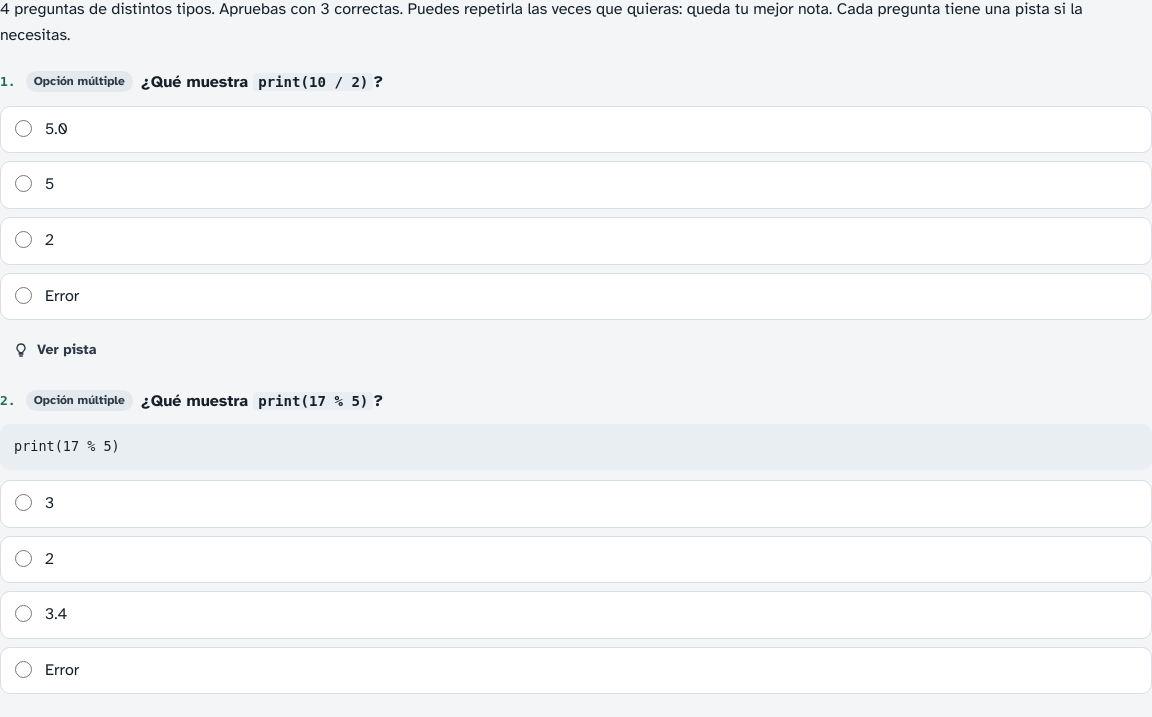
Quiz › envía respuestas de todos los tipos junto con las pistas usadas y muestra la revisión completa
The width and height of the screenshot is (1152, 717).
Click the button "Ver pista".
click(55, 350)  # box [0,334,109,366]
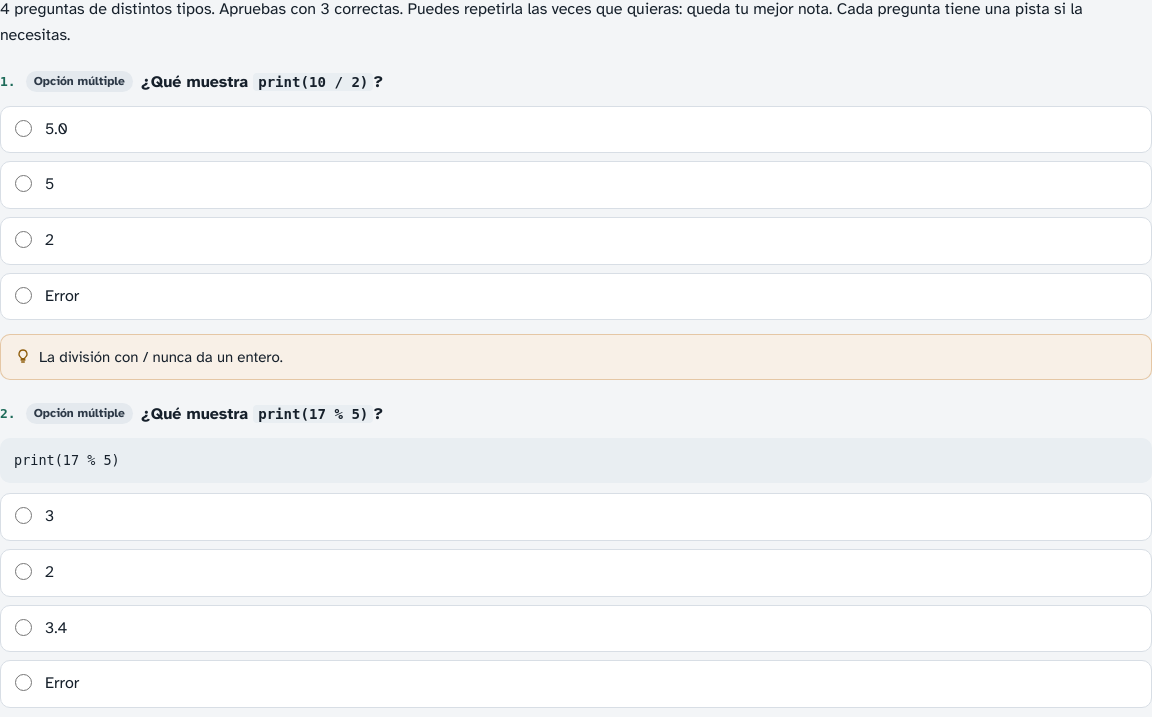
Now the text "La división con / nunca da un entero." is shown, box [39,345,283,369]
Click the radio button labelled "5.0".
click(24, 128)  # box [15,120,32,137]
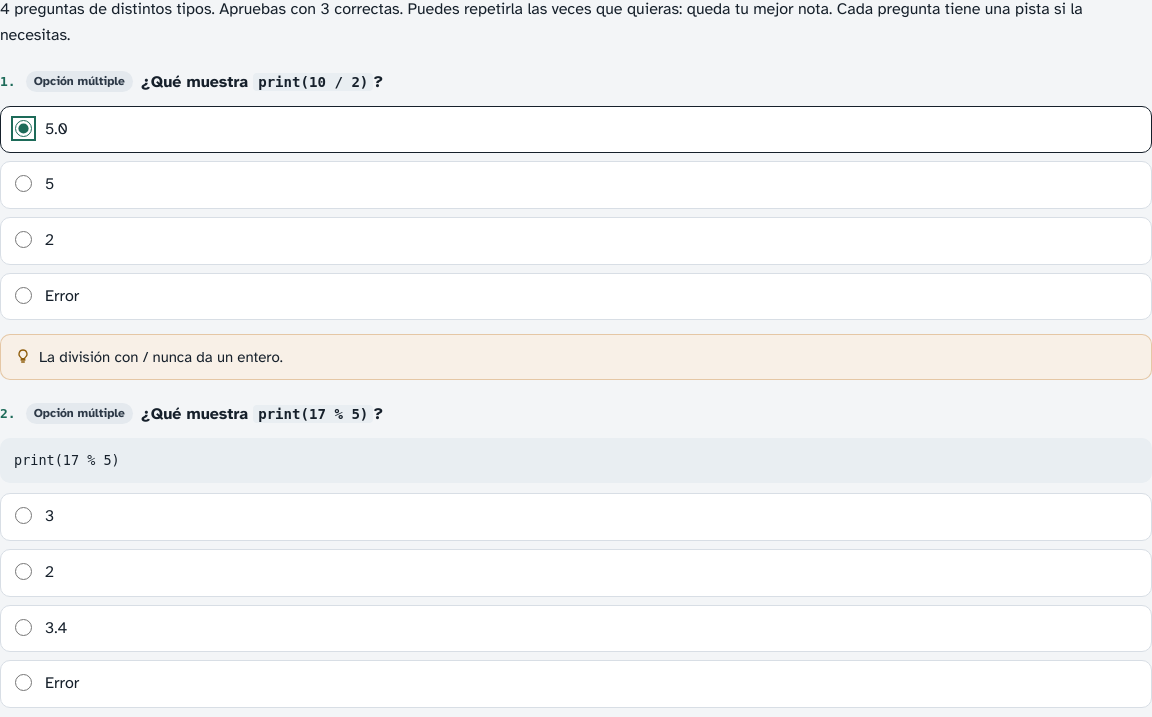
Click the radio button labelled "3".
click(24, 516)  # box [15,507,32,524]
(page scrolled)
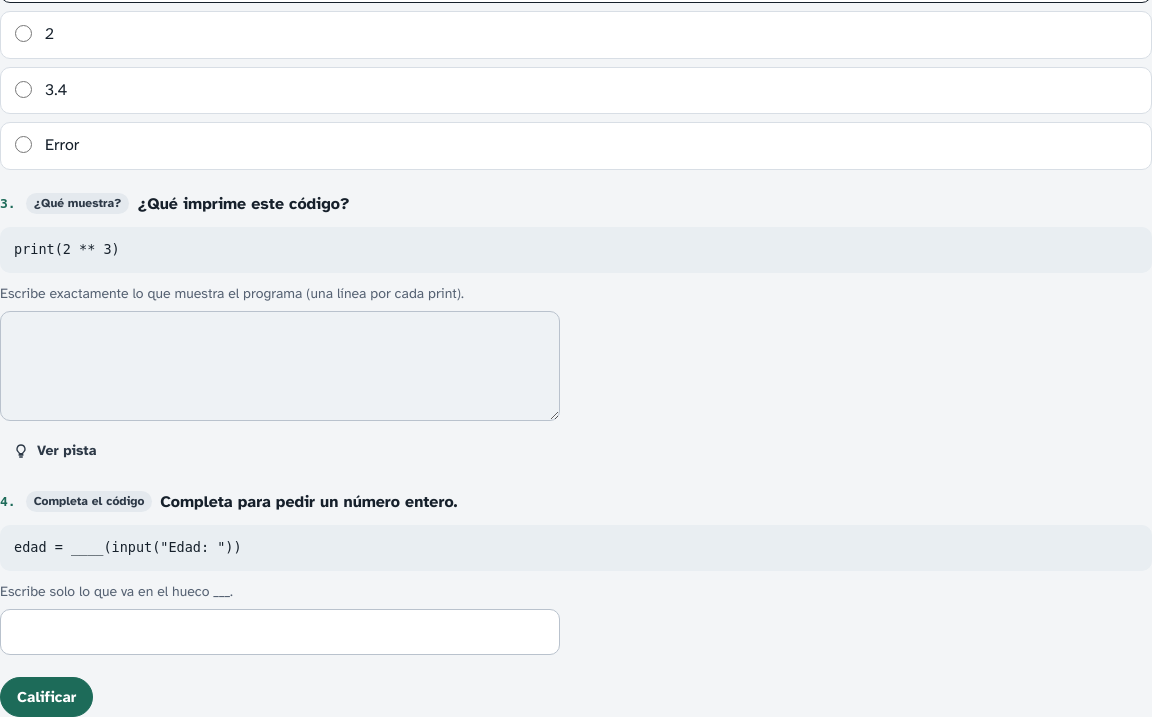
Type "8" into the text box labelled "una línea por cada print".
click(280, 366); type("8")  # box [0,311,560,421]
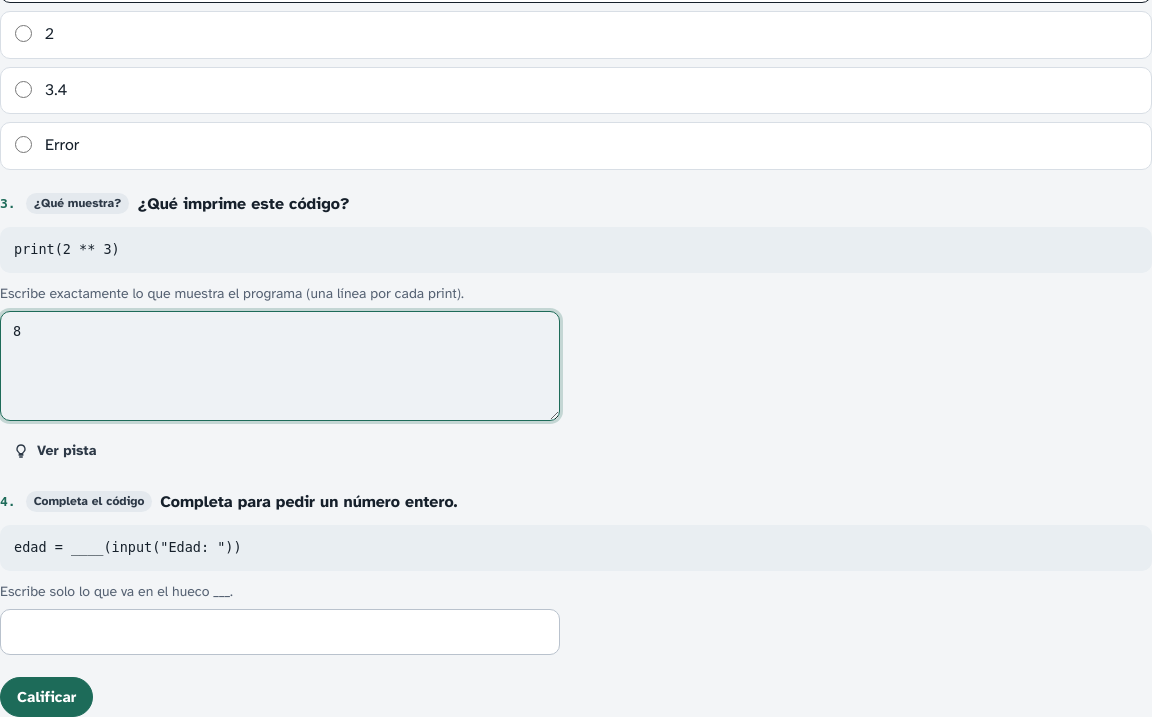
Type "float" into the field labelled "Escribe solo lo que va en el hueco ___.".
click(280, 632); type("float")  # box [0,610,560,655]
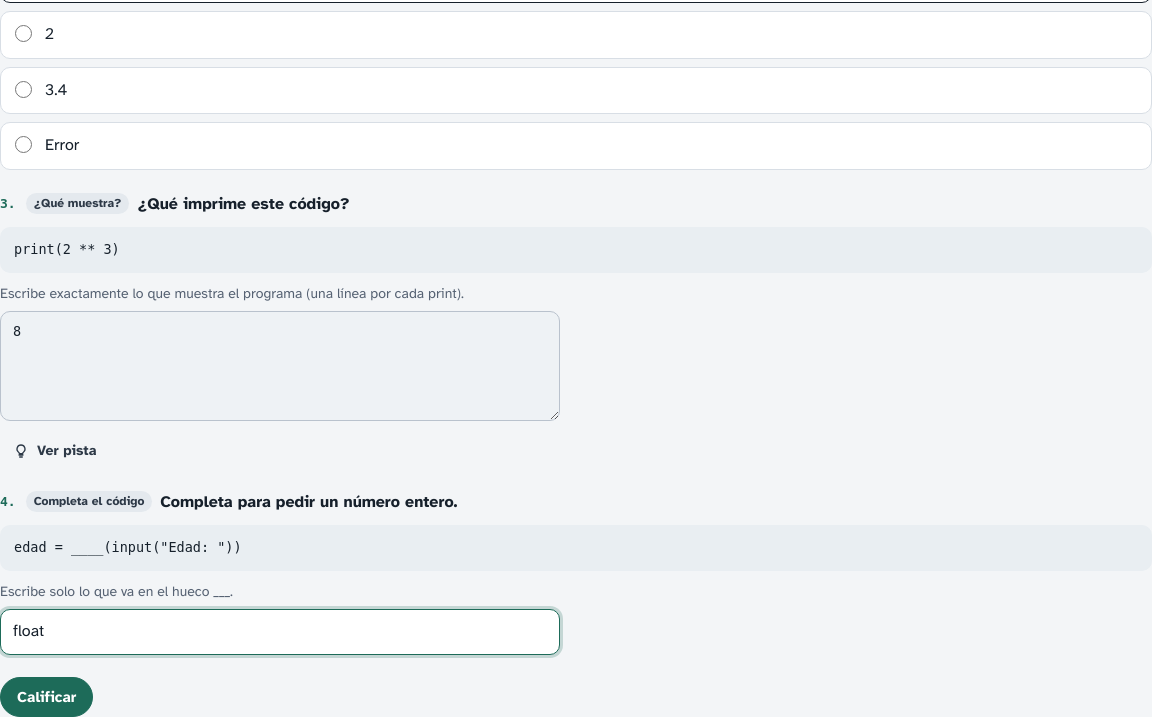
Click the button "Calificar".
click(47, 697)  # box [0,677,93,716]
(page scrolled)
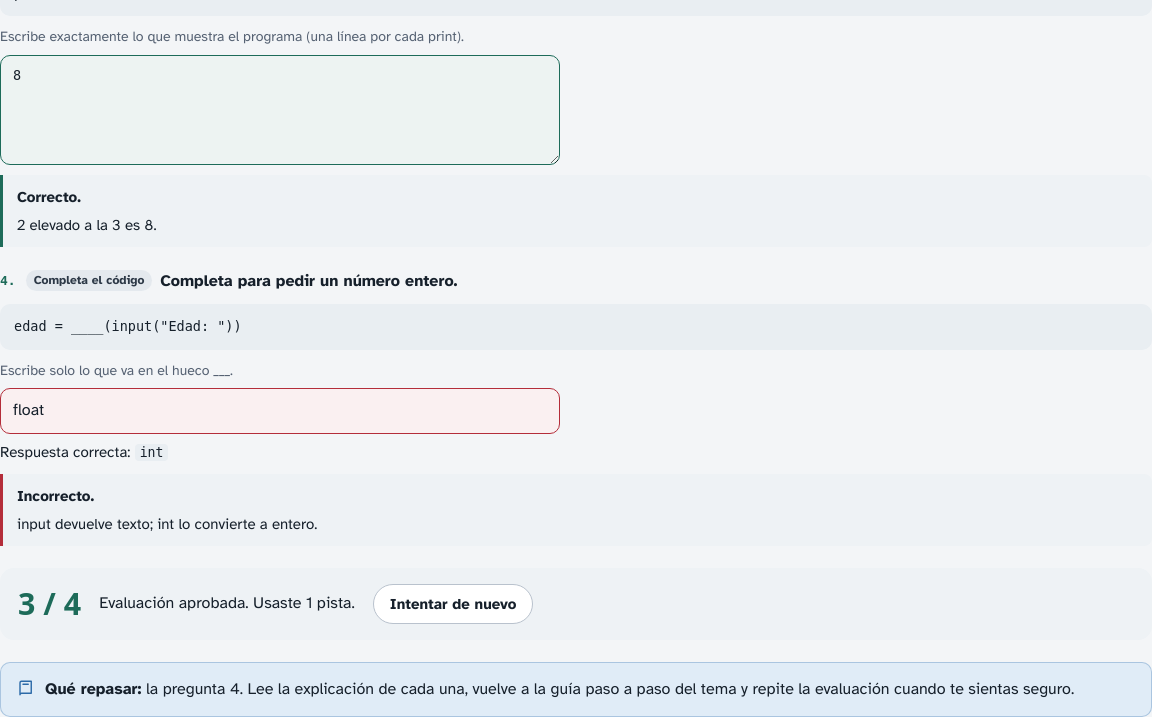
Now the text "3 / 4" is shown, box [18,589,81,619]
Now the text "int" is shown, box [135,444,168,461]
Now the text "Evaluación aprobada. Usaste 1 pista." is shown, box [99,591,355,617]
